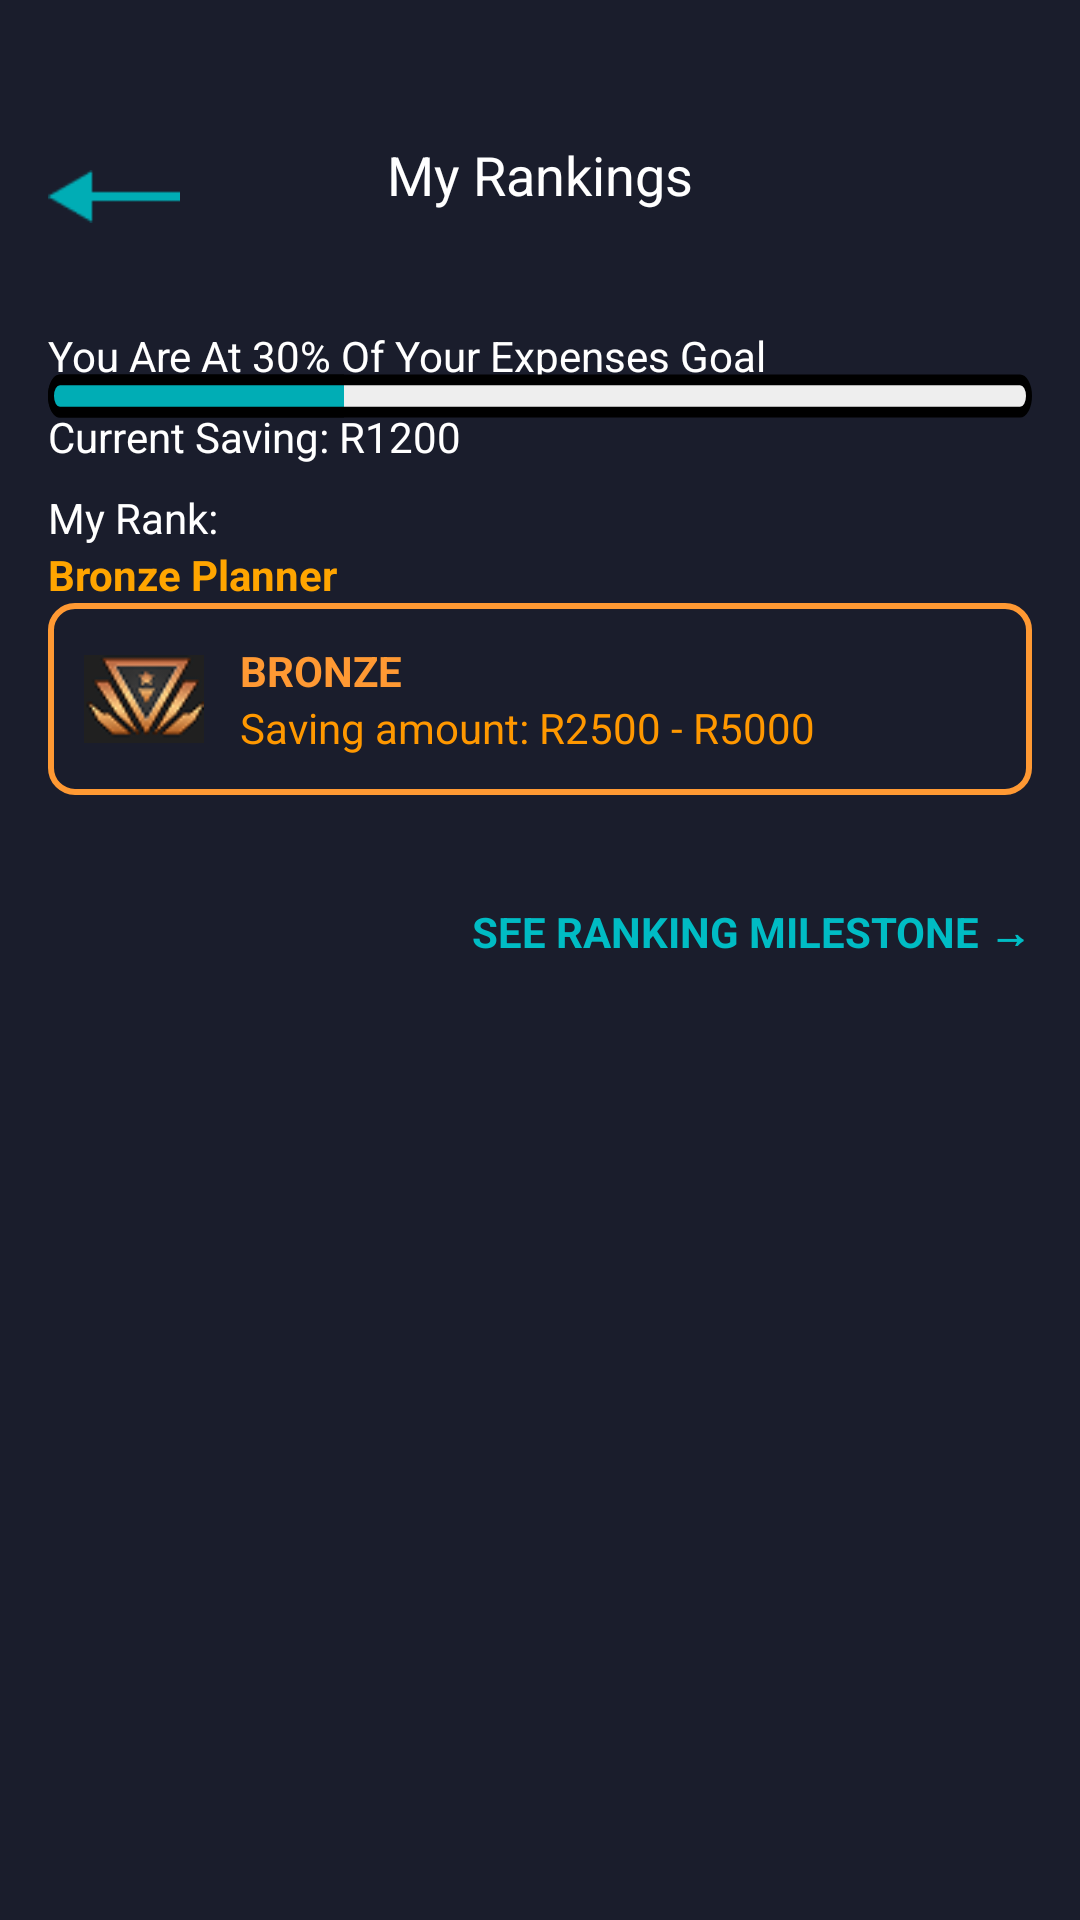

Icon click points for this 1080w x 1920h phone screenshot, format (x=x, y=y):
back arrow: (x=114, y=196)
